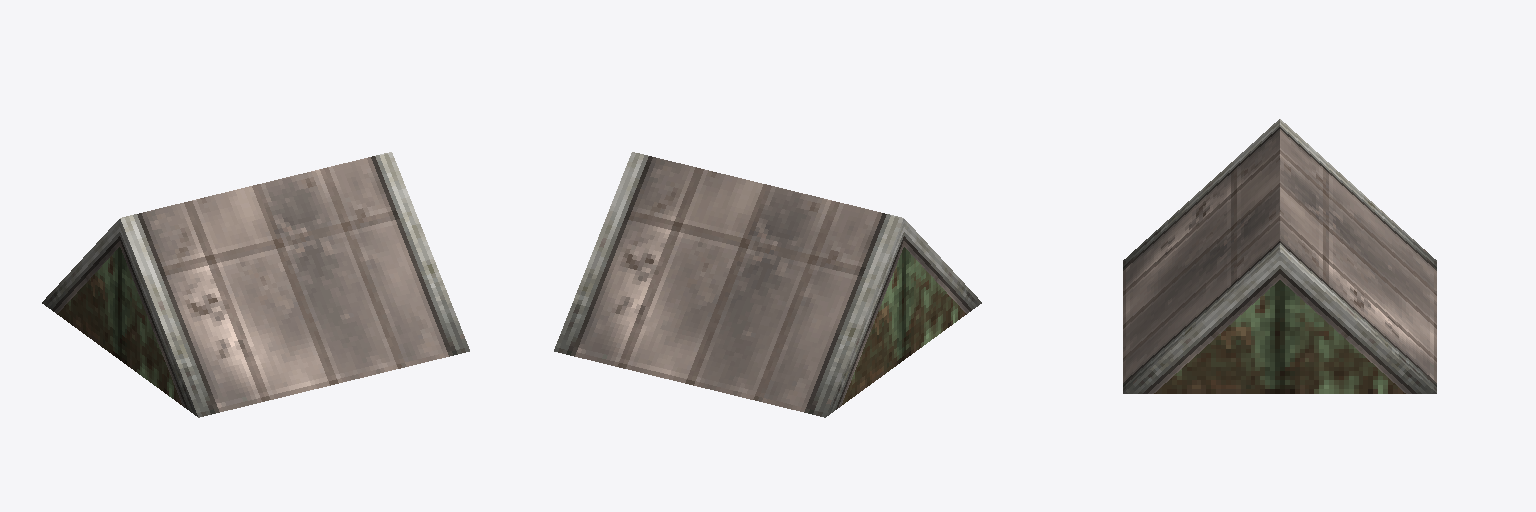
The picture shows the model from 3 angles: view 1: azimuth 30°, elevation 25°; view 2: azimuth 150°, elevation 25°; view 3: azimuth 270°, elevation 25°; orthographic projection.
Visible parts, largest first — view 1: wallB_roof; view 2: wallB_roof; view 3: wallB_roof.
Boxes of the visible parts, <box> form: wallB_roof: <box>42,152,469,417</box>; wallB_roof: <box>554,152,981,417</box>; wallB_roof: <box>1123,119,1436,393</box>.
Size of the model in its own units: 1 by 0.5 by 1.
Materials: 3 (3 with a texture image).